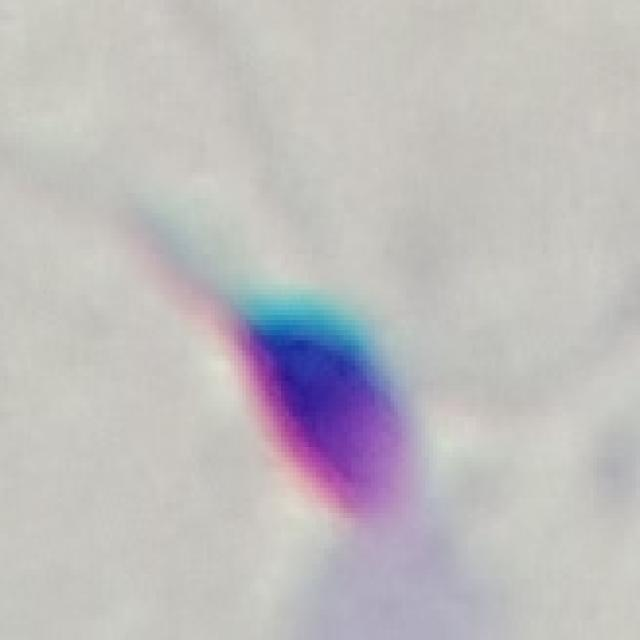normal sperm: (66, 179, 438, 546)
